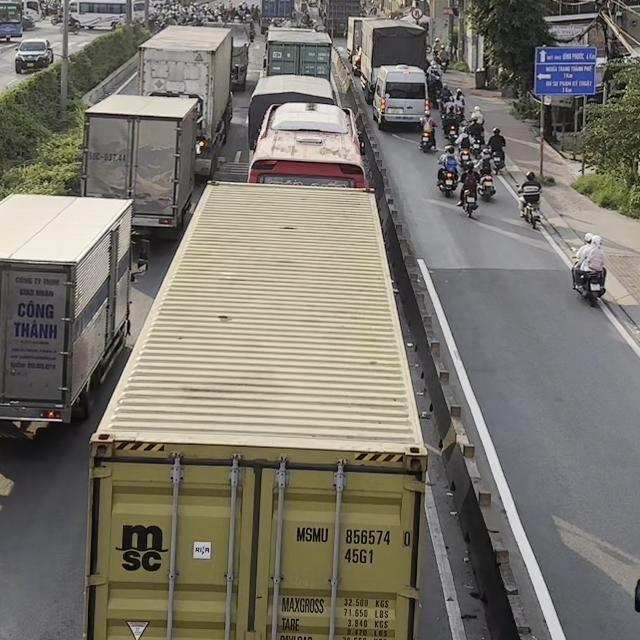bus: (247, 101, 369, 189), (0, 0, 23, 41)
car: (371, 63, 429, 129), (13, 37, 53, 74)
motorcycle: (570, 252, 606, 307), (516, 186, 541, 229), (436, 158, 458, 197), (458, 180, 478, 218), (476, 169, 496, 201), (418, 124, 436, 153), (491, 150, 508, 175), (469, 134, 483, 157), (457, 147, 472, 167), (444, 125, 458, 144)
truck: (82, 179, 429, 639), (0, 195, 151, 426), (81, 93, 203, 239), (136, 24, 240, 177), (359, 19, 428, 103), (262, 26, 332, 80)
